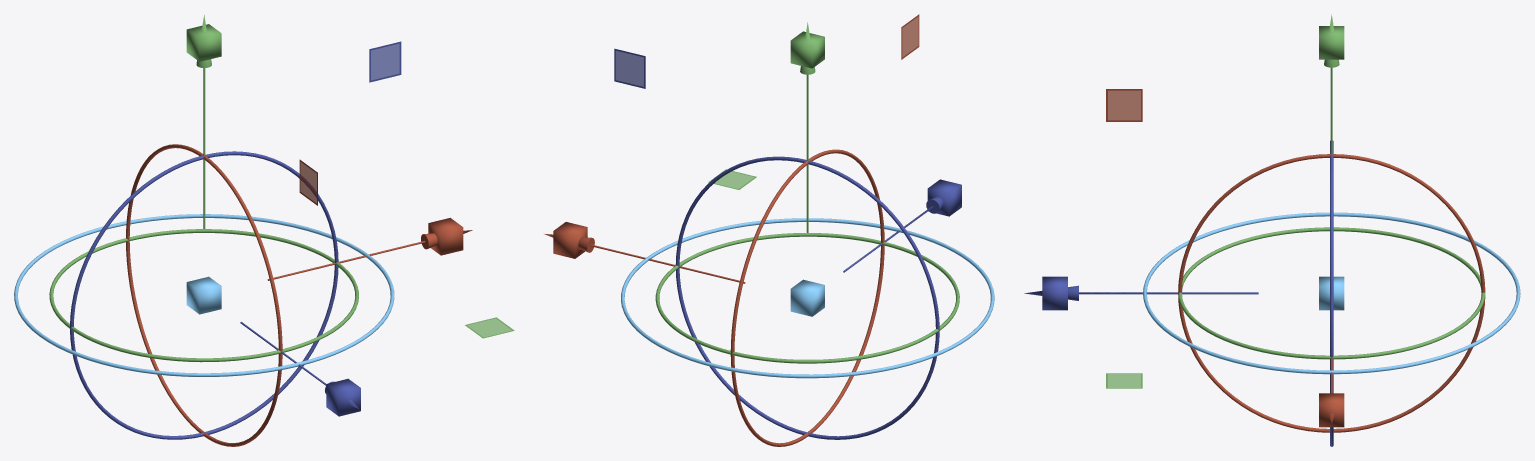
Rendered from transform_widget.glb.
3 renders of one model, left to right at view 1: azimuth 30°, elevation 25°; view 2: azimuth 150°, elevation 25°; view 3: azimuth 270°, elevation 25°, orthographic.
Visible parts, largest first — view 1: rotate_camera, rotate_z, rotate_x, rotate_y, scale_y, scale_z, scale_xyz, translate_xy, scale_x, scale_xy, translate_yz, translate_x (+3 smaller); view 2: rotate_camera, rotate_z, rotate_y, rotate_x, scale_x, scale_y, scale_xyz, translate_xy, scale_z, scale_xy, translate_yz, translate_y (+4 smaller); view 3: rotate_x, rotate_camera, rotate_y, translate_yz, scale_z, rotate_z, scale_x, scale_y, scale_yz, scale_xyz, translate_z, translate_xz.
Part boxes in pixels (left/top/right/bottom): rotate_camera: left=14, top=214, right=394, bottom=376; rotate_z: left=70, top=151, right=338, bottom=439; rotate_x: left=126, top=144, right=282, bottom=446; rotate_y: left=49, top=229, right=358, bottom=362; scale_y: left=186, top=24, right=221, bottom=227; scale_z: left=241, top=322, right=360, bottom=416; scale_xyz: left=186, top=276, right=221, bottom=314; translate_xy: left=369, top=41, right=401, bottom=82; scale_x: left=274, top=217, right=463, bottom=278; scale_xy: left=371, top=44, right=399, bottom=79; translate_yz: left=299, top=159, right=317, bottom=205; translate_x: left=267, top=230, right=472, bottom=280; rotate_camera: left=621, top=218, right=994, bottom=378; rotate_z: left=675, top=156, right=939, bottom=439; rotate_y: left=655, top=233, right=959, bottom=363; rotate_x: left=730, top=149, right=884, bottom=446; scale_x: left=553, top=222, right=739, bottom=282; scale_y: left=790, top=31, right=824, bottom=231; scale_xyz: left=790, top=279, right=824, bottom=316; translate_xy: left=614, top=48, right=645, bottom=88; scale_z: left=845, top=179, right=961, bottom=270; scale_xy: left=616, top=51, right=643, bottom=86; translate_yz: left=901, top=14, right=919, bottom=59; translate_y: left=800, top=22, right=815, bottom=232; rotate_x: left=1178, top=154, right=1485, bottom=432; rotate_camera: left=1143, top=212, right=1520, bottom=374; rotate_y: left=1178, top=227, right=1485, bottom=359; translate_yz: left=1106, top=89, right=1142, bottom=121; scale_z: left=1042, top=276, right=1257, bottom=310; rotate_z: left=1330, top=140, right=1333, bottom=446; scale_x: left=1319, top=357, right=1344, bottom=427; scale_y: left=1319, top=26, right=1344, bottom=154; scale_yz: left=1108, top=91, right=1140, bottom=119; scale_xyz: left=1319, top=276, right=1344, bottom=310; translate_z: left=1024, top=285, right=1258, bottom=300; translate_xz: left=1106, top=373, right=1142, bottom=388.
Size of the model in its own units: 10.19 by 9.47 by 10.19.
